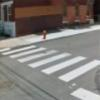crosswalks: (0, 46, 100, 82)
